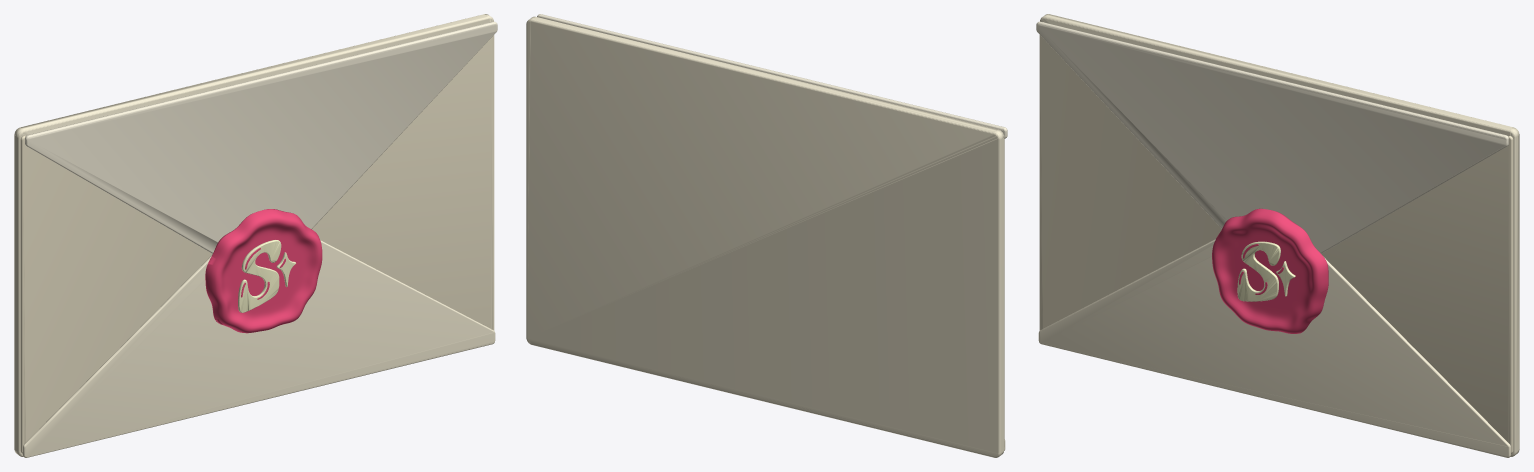
Rendered from Sembang_Cream_Envelope.obj.
3 views of the same model, side by side, from view 1: azimuth 30°, elevation 25°; view 2: azimuth 150°, elevation 25°; view 3: azimuth 330°, elevation 25° (orthographic).
Visible parts, largest first — view 1: Closing_flap, Bottom_fold, Left_fold, Right_fold, Raspberry_wax_seal, Envelope_body, Cream_S; view 2: Envelope_body, Closing_flap; view 3: Closing_flap, Bottom_fold, Right_fold, Left_fold, Raspberry_wax_seal, Envelope_body, Cream_S.
Boxes of the visible parts, box(x1,y1,x2,y2) form: Closing_flap: box(25, 21, 497, 253); Bottom_fold: box(23, 240, 495, 457); Left_fold: box(20, 136, 212, 453); Right_fold: box(312, 22, 494, 330); Raspberry_wax_seal: box(205, 209, 322, 333); Envelope_body: box(14, 14, 493, 456); Cream_S: box(238, 240, 281, 312); Envelope_body: box(526, 16, 1004, 457); Closing_flap: box(537, 14, 1007, 138); Closing_flap: box(1036, 21, 1508, 253); Bottom_fold: box(1038, 239, 1510, 457); Right_fold: box(1321, 136, 1513, 453); Left_fold: box(1039, 22, 1221, 330); Raspberry_wax_seal: box(1212, 208, 1328, 333); Envelope_body: box(1040, 14, 1519, 456); Cream_S: box(1237, 241, 1280, 301).
Size of the model in its own units: 6.4 by 4.2 by 0.417.
